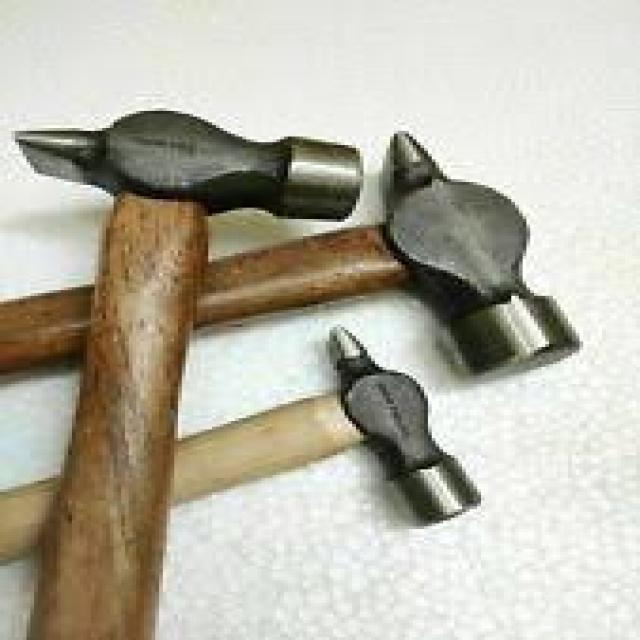hammer: (0, 102, 375, 640), (0, 131, 602, 384), (0, 324, 500, 552)
